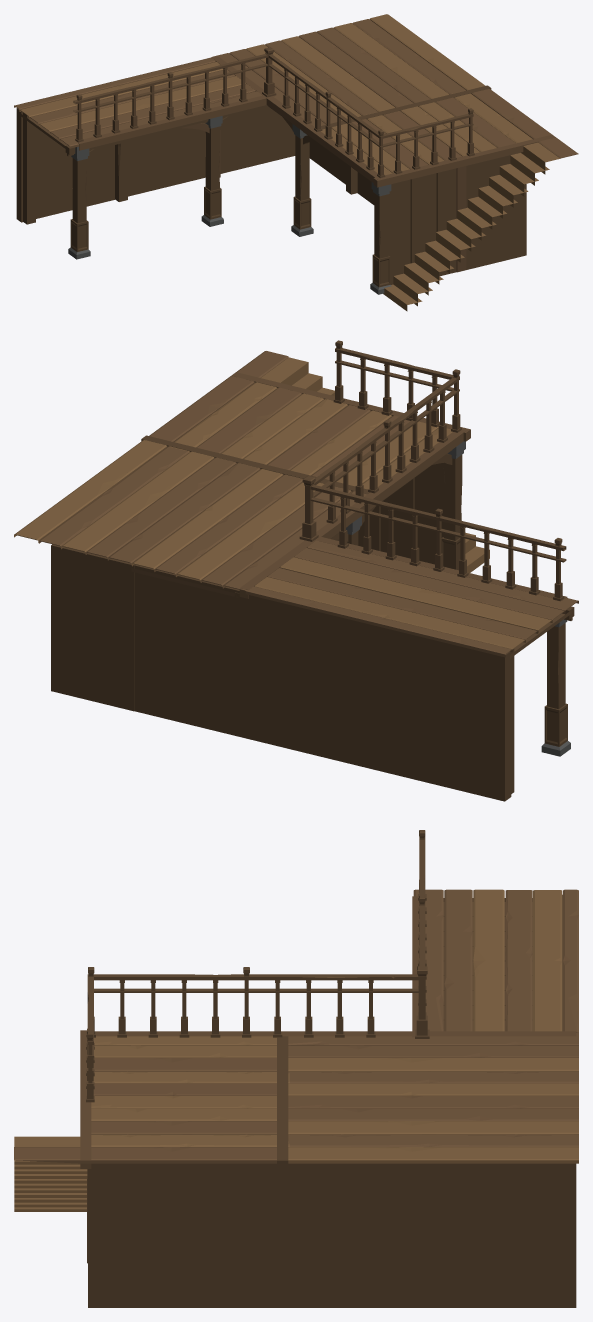
The model's file is SFHW_Building_Stairs_002.fbx.
3 views of the same model, one above another, from view 1: azimuth 30°, elevation 25°; view 2: azimuth 150°, elevation 25°; view 3: azimuth 270°, elevation 25° (orthographic). The views are drawn at different scales.
Visible parts, largest first — view 1: SFHW_Building_Stairs_002; view 2: SFHW_Building_Stairs_002; view 3: SFHW_Building_Stairs_002.
Part boxes in pixels (x1,y1,x2,y2): SFHW_Building_Stairs_002: [14, 14, 578, 311]; SFHW_Building_Stairs_002: [14, 340, 578, 801]; SFHW_Building_Stairs_002: [14, 830, 578, 1307].
Bounding box in the file's own units: 1004 × 415 × 885.
